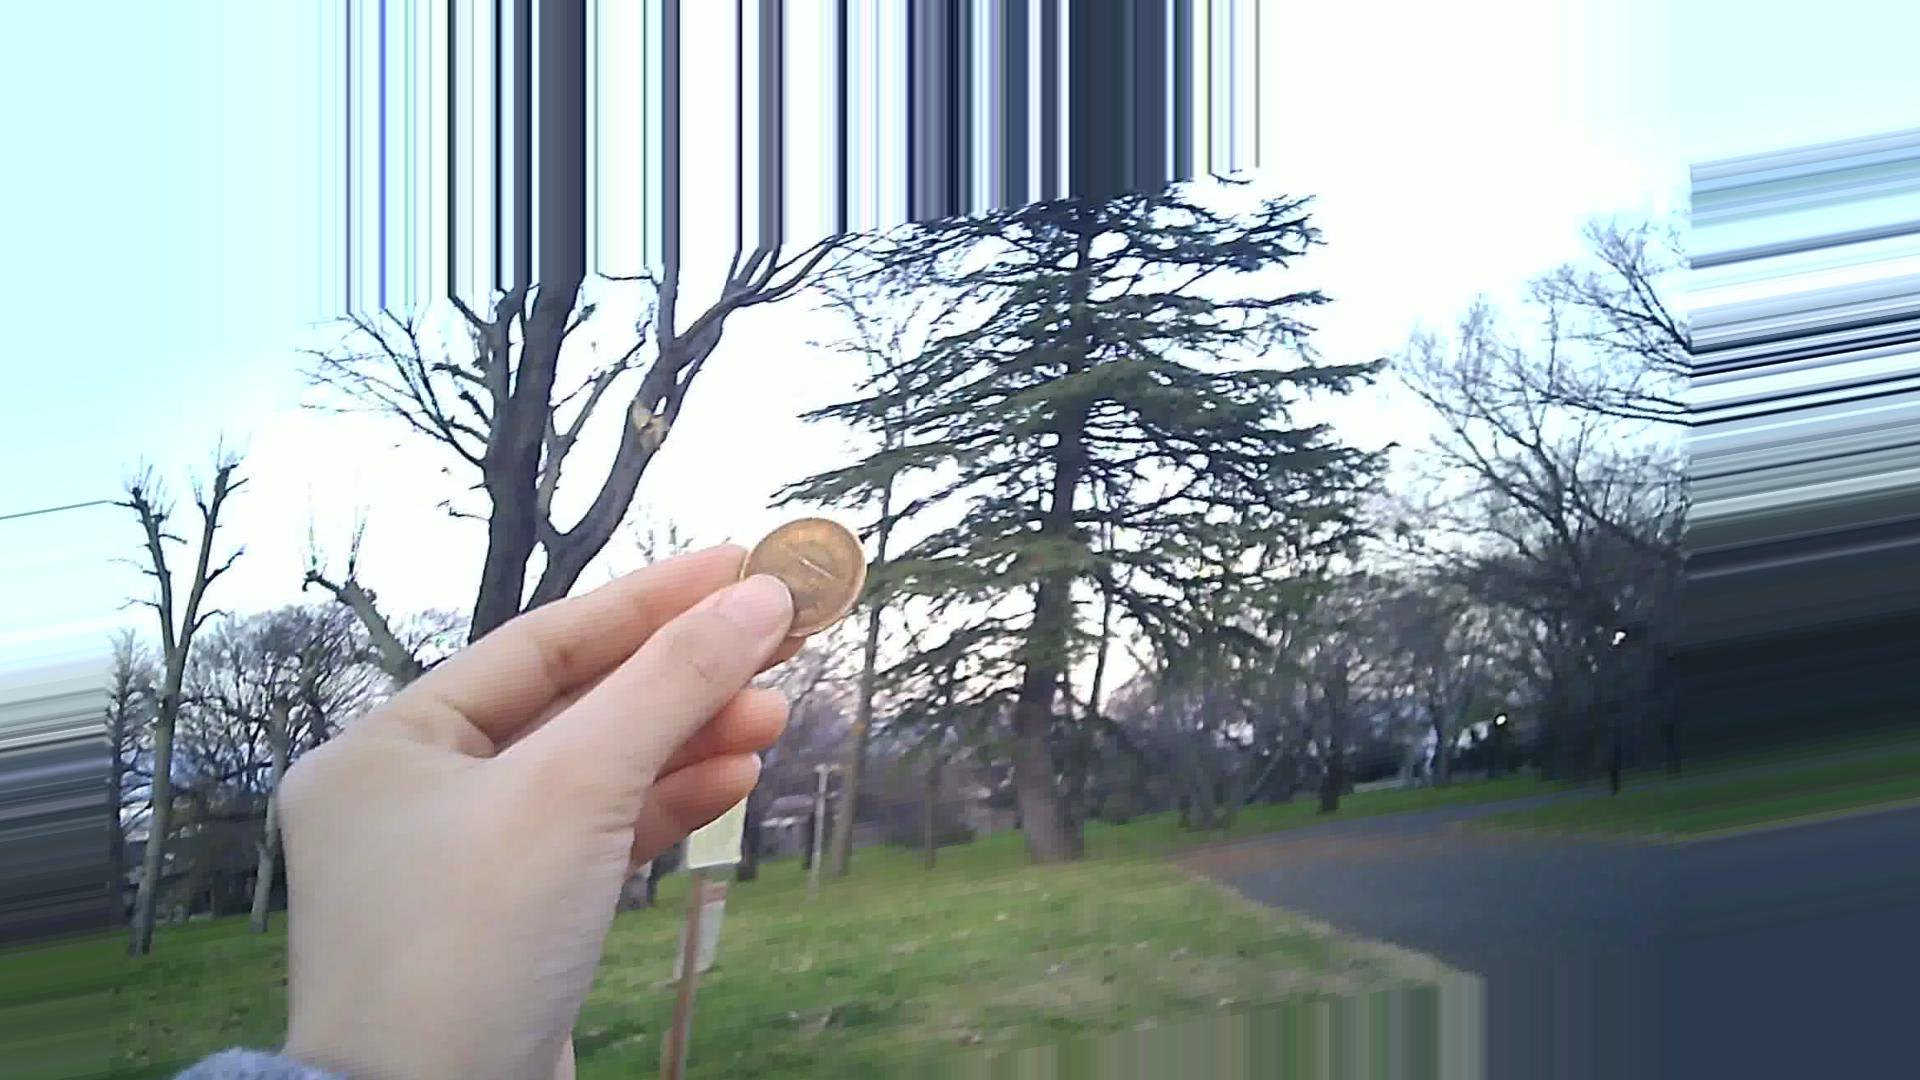10 Yen: (753, 521, 878, 636)
